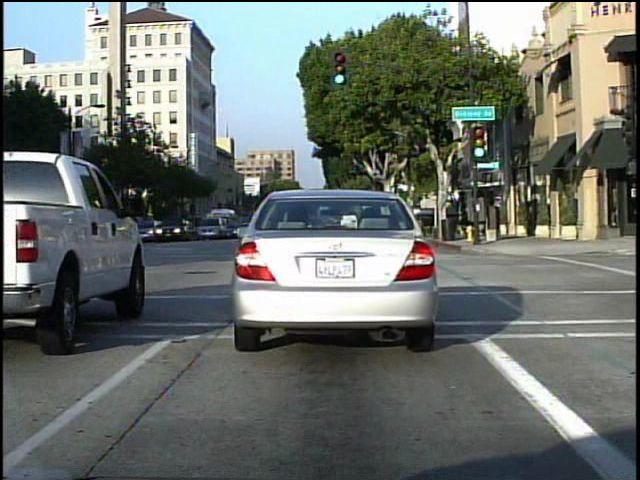person: (99, 206, 127, 251)
